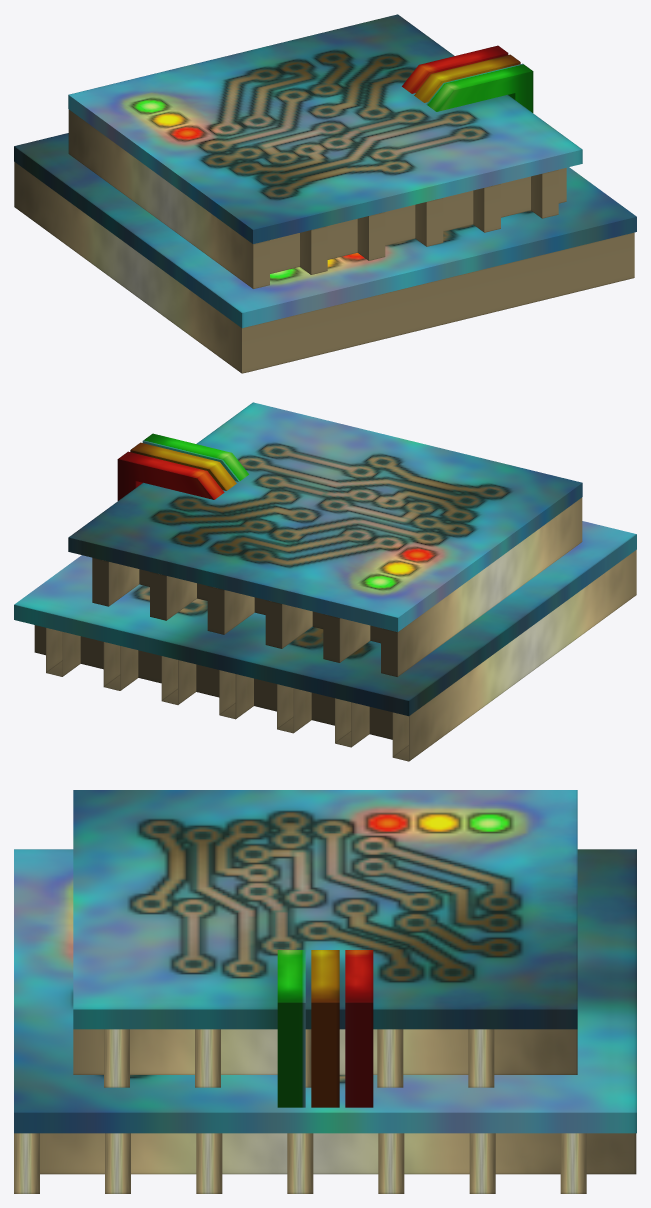
File: acs32.obj
3 views of the same model, one above another, from view 1: azimuth 30°, elevation 25°; view 2: azimuth 150°, elevation 25°; view 3: azimuth 270°, elevation 25° (orthographic). The views are drawn at different scales.
Parts seen in each view (by area): view 1: frm-secondary_board, frm-main_board, frm-cube31, frm-cube38, frm-sink3, frm-sink4, frm-con3, frm-con1, frm-con2, frm-cube28, frm-cube27, frm-cube30 (+2 smaller); view 2: frm-secondary_board, frm-main_board, frm-cube38, frm-sink3, frm-cube37, frm-con1, frm-cube28, frm-cube27, frm-cube30, frm-cube26, frm-cube29, frm-sink1 (+8 smaller); view 3: frm-secondary_board, frm-main_board, frm-cube44, frm-cube30, frm-con1, frm-con3, frm-con2, frm-cube33, frm-cube34, frm-cube35, frm-sink2, frm-cube37 (+6 smaller).
Part boxes in pixels (<box>): frm-secondary_board: <box>68,14,582,243</box>; frm-main_board: <box>14,133,636,328</box>; frm-cube31: <box>244,232,634,372</box>; frm-cube38: <box>14,162,244,373</box>; frm-sink3: <box>68,109,269,288</box>; frm-sink4: <box>270,168,566,273</box>; frm-con3: <box>426,63,533,112</box>; frm-con1: <box>402,45,508,93</box>; frm-con2: <box>414,54,520,102</box>; frm-cube28: <box>415,198,443,246</box>; frm-cube27: <box>357,212,385,260</box>; frm-cube30: <box>531,169,558,218</box>; frm-secondary_board: <box>68,402,582,631</box>; frm-main_board: <box>14,521,636,716</box>; frm-cube38: <box>392,550,636,761</box>; frm-sink3: <box>381,497,582,676</box>; frm-cube37: <box>34,625,392,739</box>; frm-con1: <box>117,451,224,500</box>; frm-cube28: <box>207,586,254,634</box>; frm-cube27: <box>265,600,312,648</box>; frm-cube30: <box>92,557,139,606</box>; frm-cube26: <box>323,614,370,662</box>; frm-cube29: <box>150,572,196,620</box>; frm-sink1: <box>103,642,138,690</box>; frm-secondary_board: <box>73,790,577,1029</box>; frm-main_board: <box>14,849,636,1133</box>; frm-cube44: <box>40,1133,636,1174</box>; frm-cube30: <box>73,1029,577,1074</box>; frm-con1: <box>345,950,373,1107</box>; frm-con3: <box>277,950,305,1107</box>; frm-con2: <box>311,950,339,1107</box>; frm-cube33: <box>196,1133,222,1193</box>; frm-cube34: <box>287,1133,313,1193</box>; frm-cube35: <box>378,1133,404,1193</box>; frm-sink2: <box>469,1133,495,1193</box>; frm-cube37: <box>560,1133,586,1193</box>.
Size of the model in its own units: 0.2051 by 0.0682 by 0.2051.
Materials: 1 (1 with a texture image).
